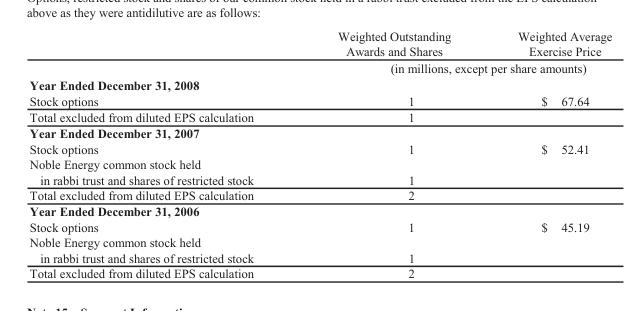table: (28, 28, 611, 280)
table column: (28, 28, 295, 280), (295, 28, 483, 280), (483, 28, 611, 280)
table column header: (28, 28, 611, 76)
table projected row header: (28, 76, 611, 92), (28, 125, 611, 140), (28, 203, 611, 218)
table row: (28, 28, 611, 59), (28, 156, 611, 187), (28, 234, 611, 265), (28, 59, 611, 76), (28, 108, 611, 125), (28, 76, 611, 92), (28, 92, 611, 108), (28, 140, 611, 156), (28, 187, 611, 203), (28, 218, 611, 234), (28, 125, 611, 140), (28, 203, 611, 218), (28, 265, 611, 280)
table spanning cell: (295, 59, 611, 76)
